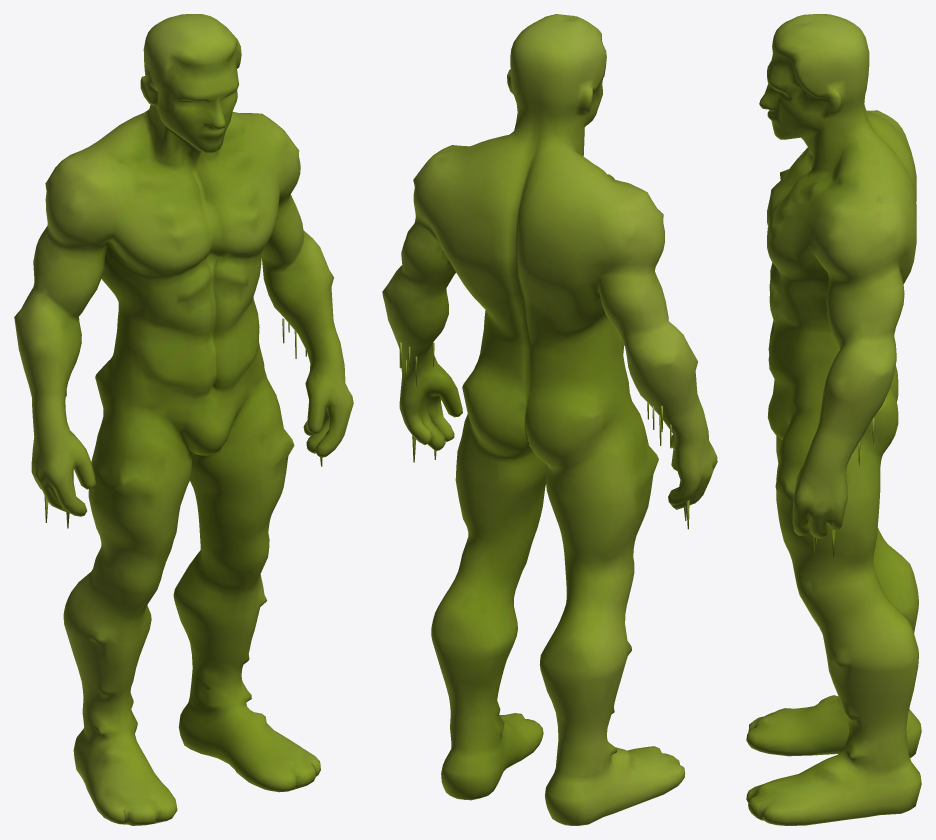
File: moss-covered_662421af_v1.glb
The picture shows the model from 3 angles, left to right: view 1: azimuth 30°, elevation 25°; view 2: azimuth 150°, elevation 25°; view 3: azimuth 270°, elevation 25°; orthographic projection.
Visible parts, largest first — view 1: material; view 2: material; view 3: material.
Boxes of the visible parts, x1=… form: material: x1=14, y1=14, x2=353, y2=825; material: x1=382, y1=14, x2=717, y2=825; material: x1=746, y1=14, x2=921, y2=825.
Size of the model in its own units: 0.8104 by 1.9 by 0.3984.
1 material, 1 textured.
